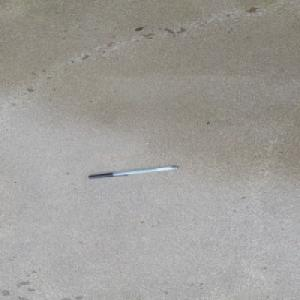Pen: (87, 164, 179, 179)
